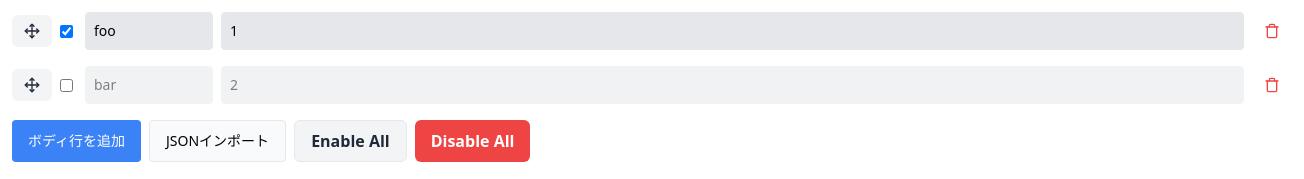
BodyEditorKeyValue › toggles all rows enabled state
The image size is (1304, 179).
Expected: the 1st checkbox is checked, [60, 24, 73, 38]
Expected: the 2nd checkbox is not checked, [60, 78, 73, 92]
Click the button "Enable All" at (350, 141), box [294, 120, 407, 162]
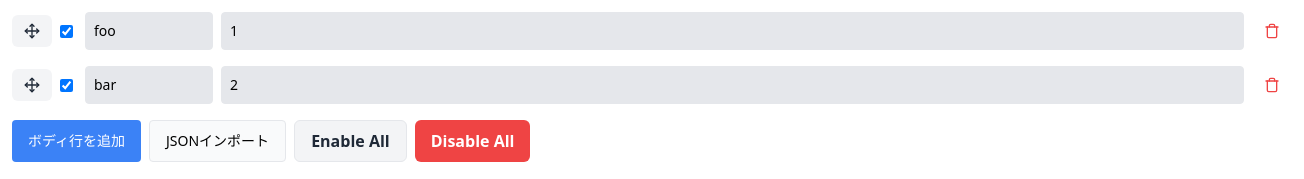
Expected: the 1st checkbox is checked, [60, 24, 73, 38]
Expected: the 2nd checkbox is checked, [60, 78, 73, 92]
Click the button "Disable All" at (473, 141), box [415, 120, 530, 162]
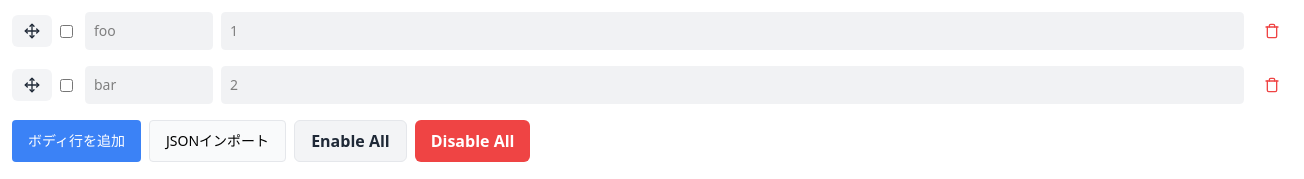
Expected: the 1st checkbox is not checked, [60, 24, 73, 38]
Expected: the 2nd checkbox is not checked, [60, 78, 73, 92]
